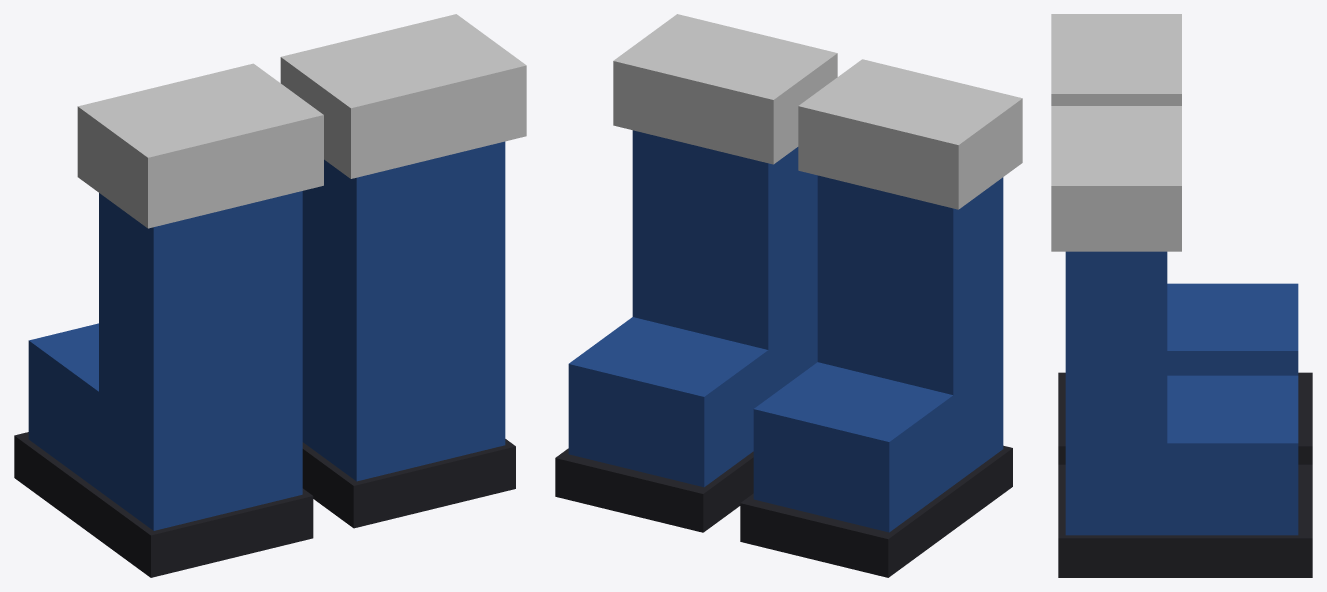
File: ntu-boots.glb
3 renders of one model, left to right at view 1: azimuth 30°, elevation 25°; view 2: azimuth 150°, elevation 25°; view 3: azimuth 270°, elevation 25°, orthographic. The views are drawn at different scales.
Visible parts, largest first — view 1: box-prop; view 2: box-prop; view 3: box-prop.
Part boxes in pixels (box(x1,y1,x2,y2)): box-prop: box(14, 14, 526, 577); box-prop: box(555, 14, 1022, 577); box-prop: box(1051, 14, 1312, 577).
Size of the model in its own units: 0.56 by 0.6 by 0.36.
